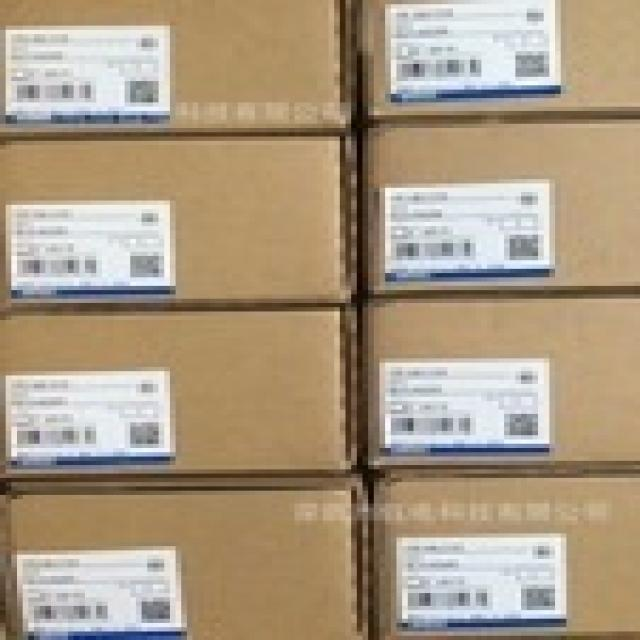box: (0, 308, 358, 482), (0, 138, 356, 311), (0, 478, 368, 636), (0, 0, 360, 137), (362, 294, 634, 475), (360, 119, 634, 297), (371, 474, 634, 635), (352, 0, 634, 123)
